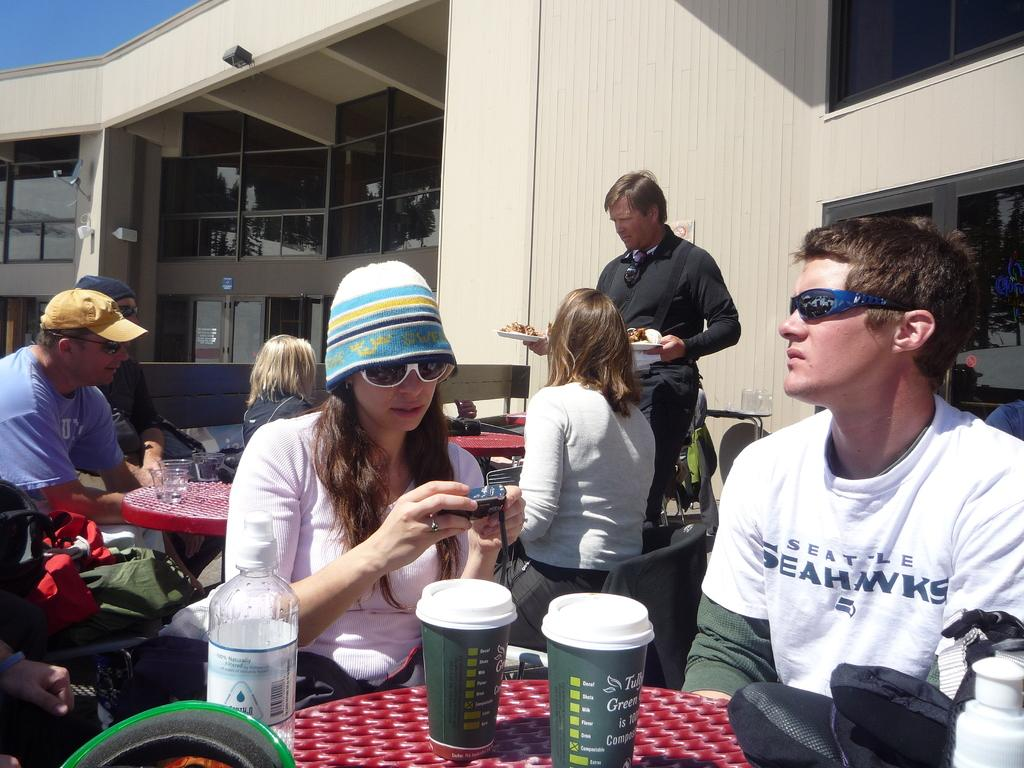Hat: (33, 282, 148, 342)
